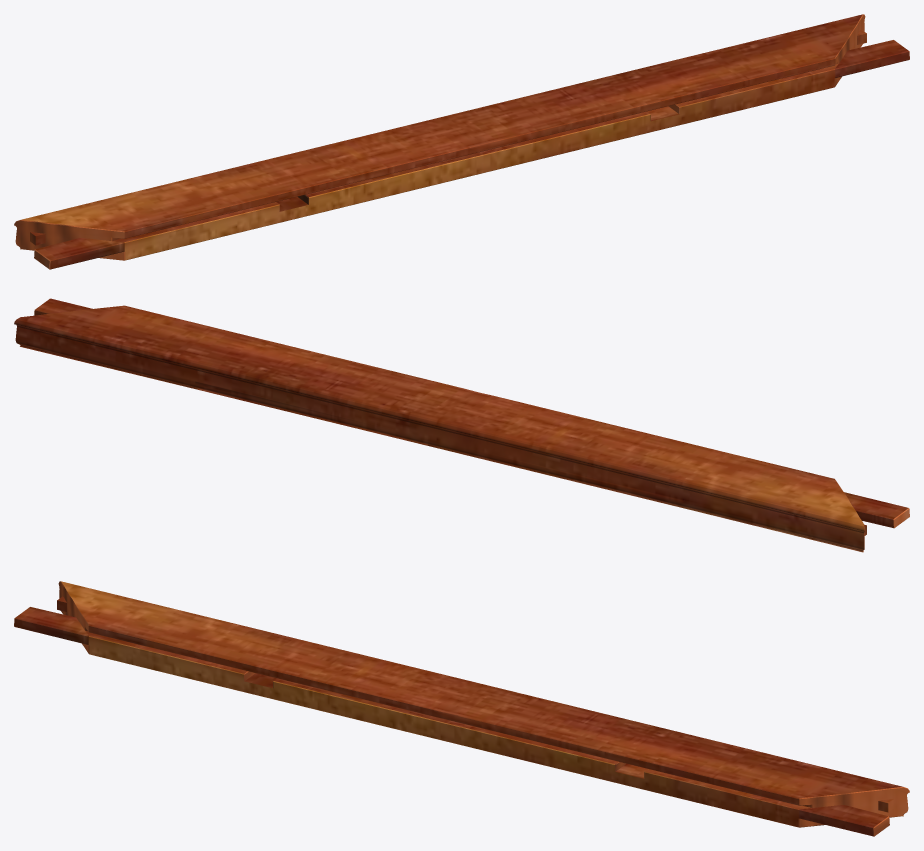
File: baxianzhuo_J_dabian_01.FBX
3 views of the same model, one above another, from view 1: azimuth 30°, elevation 25°; view 2: azimuth 150°, elevation 25°; view 3: azimuth 330°, elevation 25° (orthographic).
Parts seen in each view (by area): view 1: baxianzhuo_J_dabian_01; view 2: baxianzhuo_J_dabian_01; view 3: baxianzhuo_J_dabian_01.
Boxes of the visible parts, <box> form: baxianzhuo_J_dabian_01: <box>14,14,909,269</box>; baxianzhuo_J_dabian_01: <box>14,298,909,552</box>; baxianzhuo_J_dabian_01: <box>14,581,909,836</box>.
Size of the model in its own units: 98.14 by 3.2 by 8.
